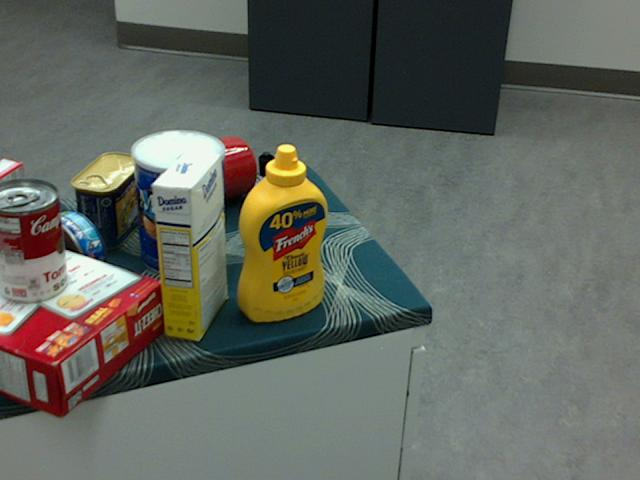cracker_box: (0, 225, 164, 417)
gelatin_box: (0, 158, 28, 234)
large_marker: (258, 151, 274, 244)
master_chef_can: (129, 129, 224, 277)
mug: (167, 135, 255, 212)
mustard_bottle: (237, 142, 328, 321)
potted_meat_can: (70, 150, 143, 250)
sugar_box: (150, 149, 228, 340)
tomato_soup_can: (0, 178, 67, 303)
tuna_fish_can: (30, 211, 105, 292)
